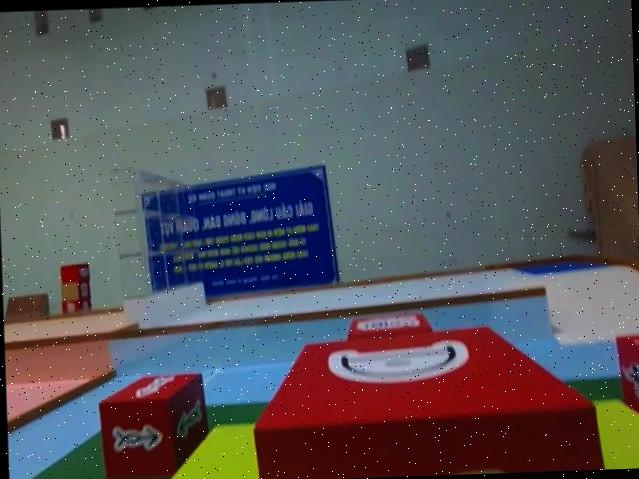R1: (616, 333, 639, 424)
R2 Real: (252, 320, 599, 479), (96, 372, 209, 479)
